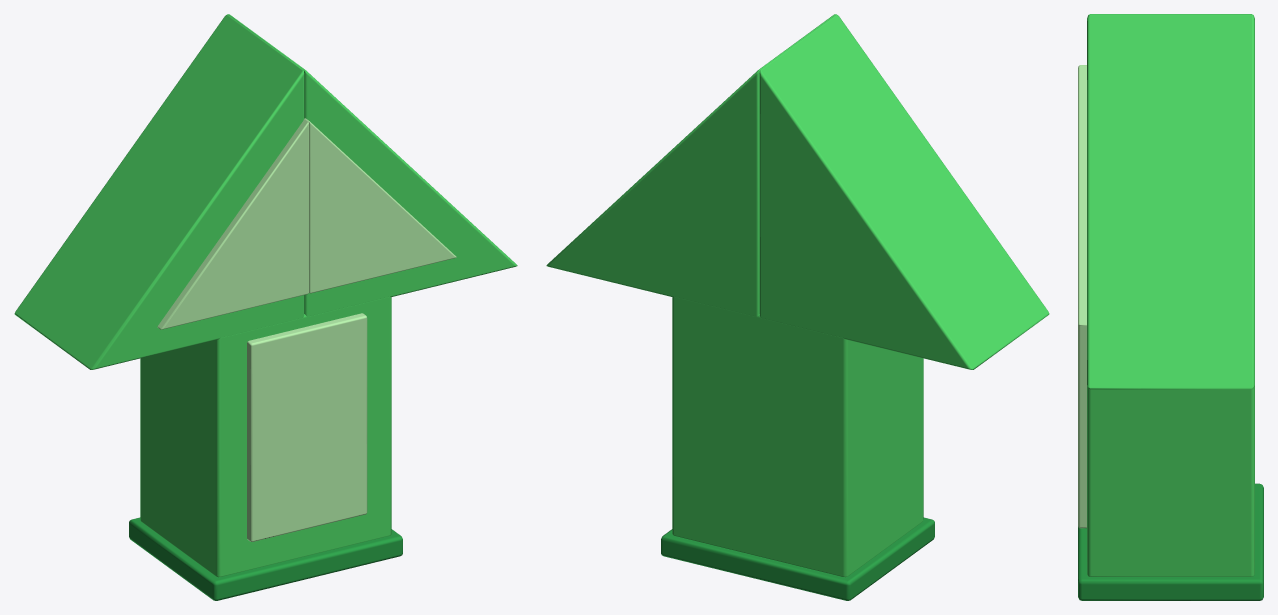
Rendered from Evolve.fbx.
3 renders of one model, left to right at view 1: azimuth 30°, elevation 25°; view 2: azimuth 150°, elevation 25°; view 3: azimuth 270°, elevation 25°, orthographic. The views are drawn at different scales.
Parts seen in each view (by area): view 1: Evolve_SmoothPlastic; view 2: Evolve_SmoothPlastic; view 3: Evolve_SmoothPlastic.
Part boxes in pixels (x1,y1,x2,y2): Evolve_SmoothPlastic: (14,14,517,600); Evolve_SmoothPlastic: (546,14,1049,600); Evolve_SmoothPlastic: (1078,14,1263,600).
Size of the model in its own units: 1.75 by 1.98 by 0.62.
1 material, 1 textured.
